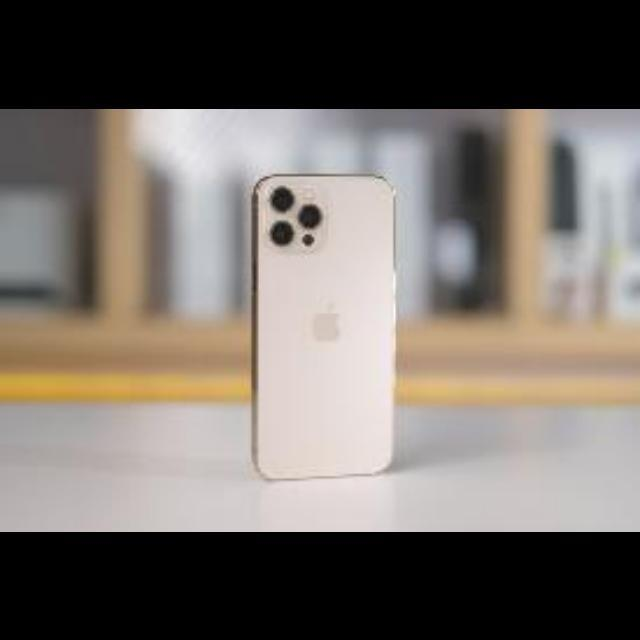phone: (226, 158, 418, 499)
